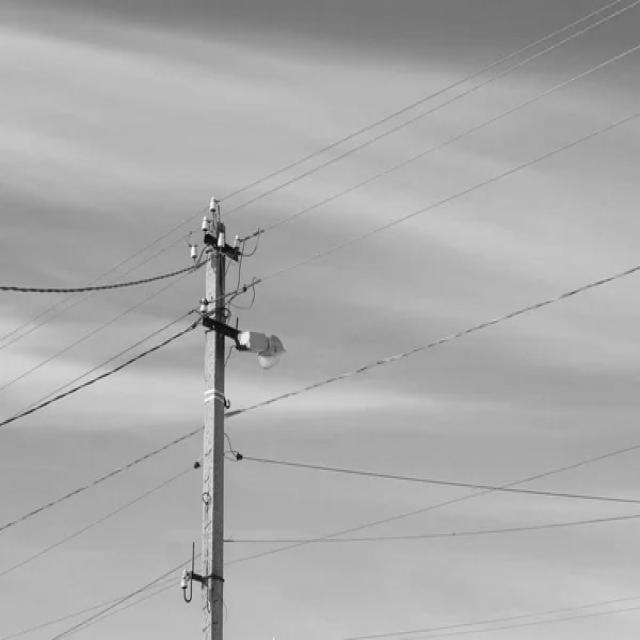Pole: (199, 197, 285, 640)
